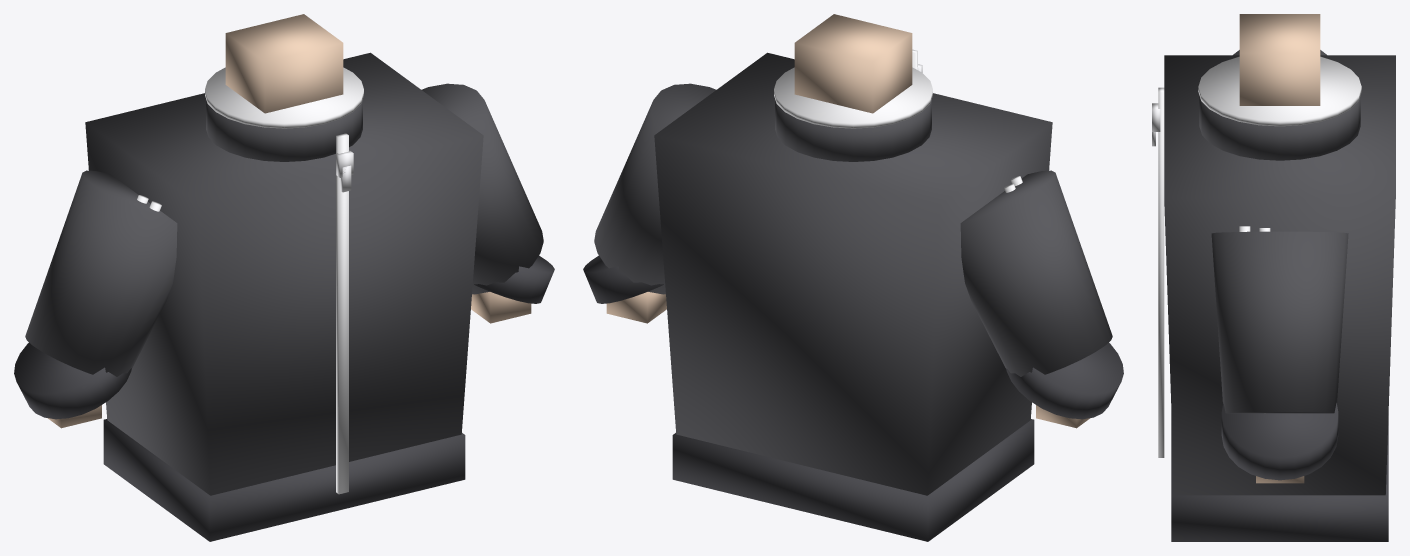
File: row4_03_track_stripes.glb
The picture shows the model from 3 angles, left to right: view 1: azimuth 30°, elevation 25°; view 2: azimuth 150°, elevation 25°; view 3: azimuth 270°, elevation 25°; orthographic projection. The views are drawn at different scales.
Visible parts, largest first — view 1: Torso_03_track_stripes, Sleeve_R_03_track_stripes, Hem_03_track_stripes, Neck_03_track_stripes, Sleeve_L_03_track_stripes, Collar_03_track_stripes, Cuff_R_03_track_stripes, Zipper_03_track_stripes, Collar_Trim_03_track_stripes, Cuff_L_03_track_stripes, Wrist_L_03_track_stripes; view 2: Torso_03_track_stripes, Sleeve_R_03_track_stripes, Hem_03_track_stripes, Neck_03_track_stripes, Sleeve_L_03_track_stripes, Collar_03_track_stripes, Cuff_R_03_track_stripes, Collar_Trim_03_track_stripes, Cuff_L_03_track_stripes, Wrist_L_03_track_stripes; view 3: Torso_03_track_stripes, Sleeve_L_03_track_stripes, Hem_03_track_stripes, Neck_03_track_stripes, Cuff_L_03_track_stripes, Collar_03_track_stripes, Collar_Trim_03_track_stripes, Zipper_03_track_stripes.
Boxes of the visible parts, x1,y1,x2,y2 form: Torso_03_track_stripes: [85, 52, 483, 495]; Sleeve_R_03_track_stripes: [25, 170, 177, 376]; Hem_03_track_stripes: [103, 419, 465, 541]; Neck_03_track_stripes: [225, 14, 343, 113]; Sleeve_L_03_track_stripes: [421, 83, 543, 294]; Collar_03_track_stripes: [206, 99, 362, 161]; Cuff_R_03_track_stripes: [14, 342, 131, 419]; Zipper_03_track_stripes: [336, 133, 348, 494]; Collar_Trim_03_track_stripes: [205, 67, 363, 128]; Cuff_L_03_track_stripes: [474, 255, 554, 303]; Wrist_L_03_track_stripes: [471, 292, 531, 323]; Torso_03_track_stripes: [654, 52, 1052, 495]; Sleeve_R_03_track_stripes: [960, 170, 1112, 376]; Hem_03_track_stripes: [672, 419, 1034, 541]; Neck_03_track_stripes: [794, 14, 912, 113]; Sleeve_L_03_track_stripes: [594, 83, 716, 294]; Collar_03_track_stripes: [775, 99, 931, 161]; Cuff_R_03_track_stripes: [1006, 342, 1123, 419]; Collar_Trim_03_track_stripes: [774, 67, 932, 128]; Cuff_L_03_track_stripes: [583, 255, 663, 303]; Wrist_L_03_track_stripes: [606, 292, 666, 323]; Torso_03_track_stripes: [1164, 55, 1395, 495]; Sleeve_L_03_track_stripes: [1211, 231, 1348, 413]; Hem_03_track_stripes: [1171, 413, 1388, 541]; Neck_03_track_stripes: [1239, 14, 1320, 105]; Cuff_L_03_track_stripes: [1221, 402, 1338, 480]; Collar_03_track_stripes: [1199, 95, 1360, 160]; Collar_Trim_03_track_stripes: [1198, 56, 1361, 126]; Zipper_03_track_stripes: [1158, 87, 1164, 457].
Size of the model in its own units: 0.6157 by 0.487 by 0.242.
